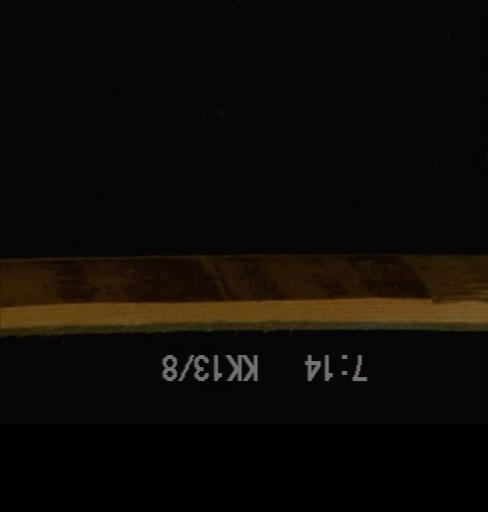wave: (0, 260, 486, 308)
